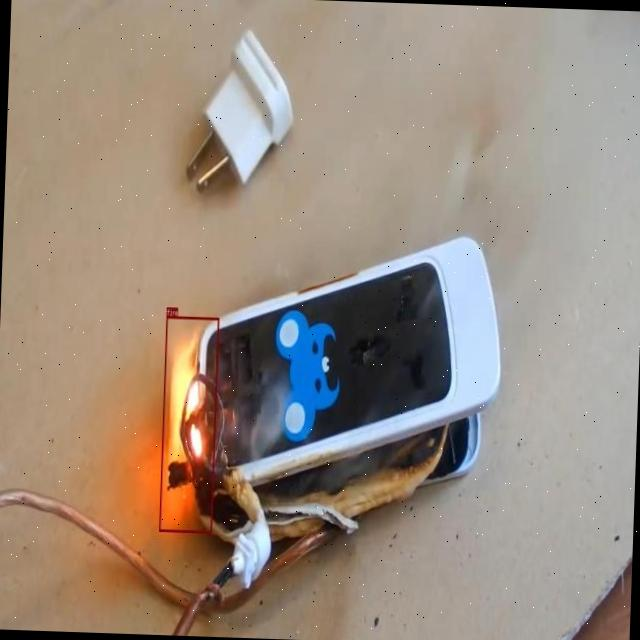fire: (159, 316, 219, 532)
